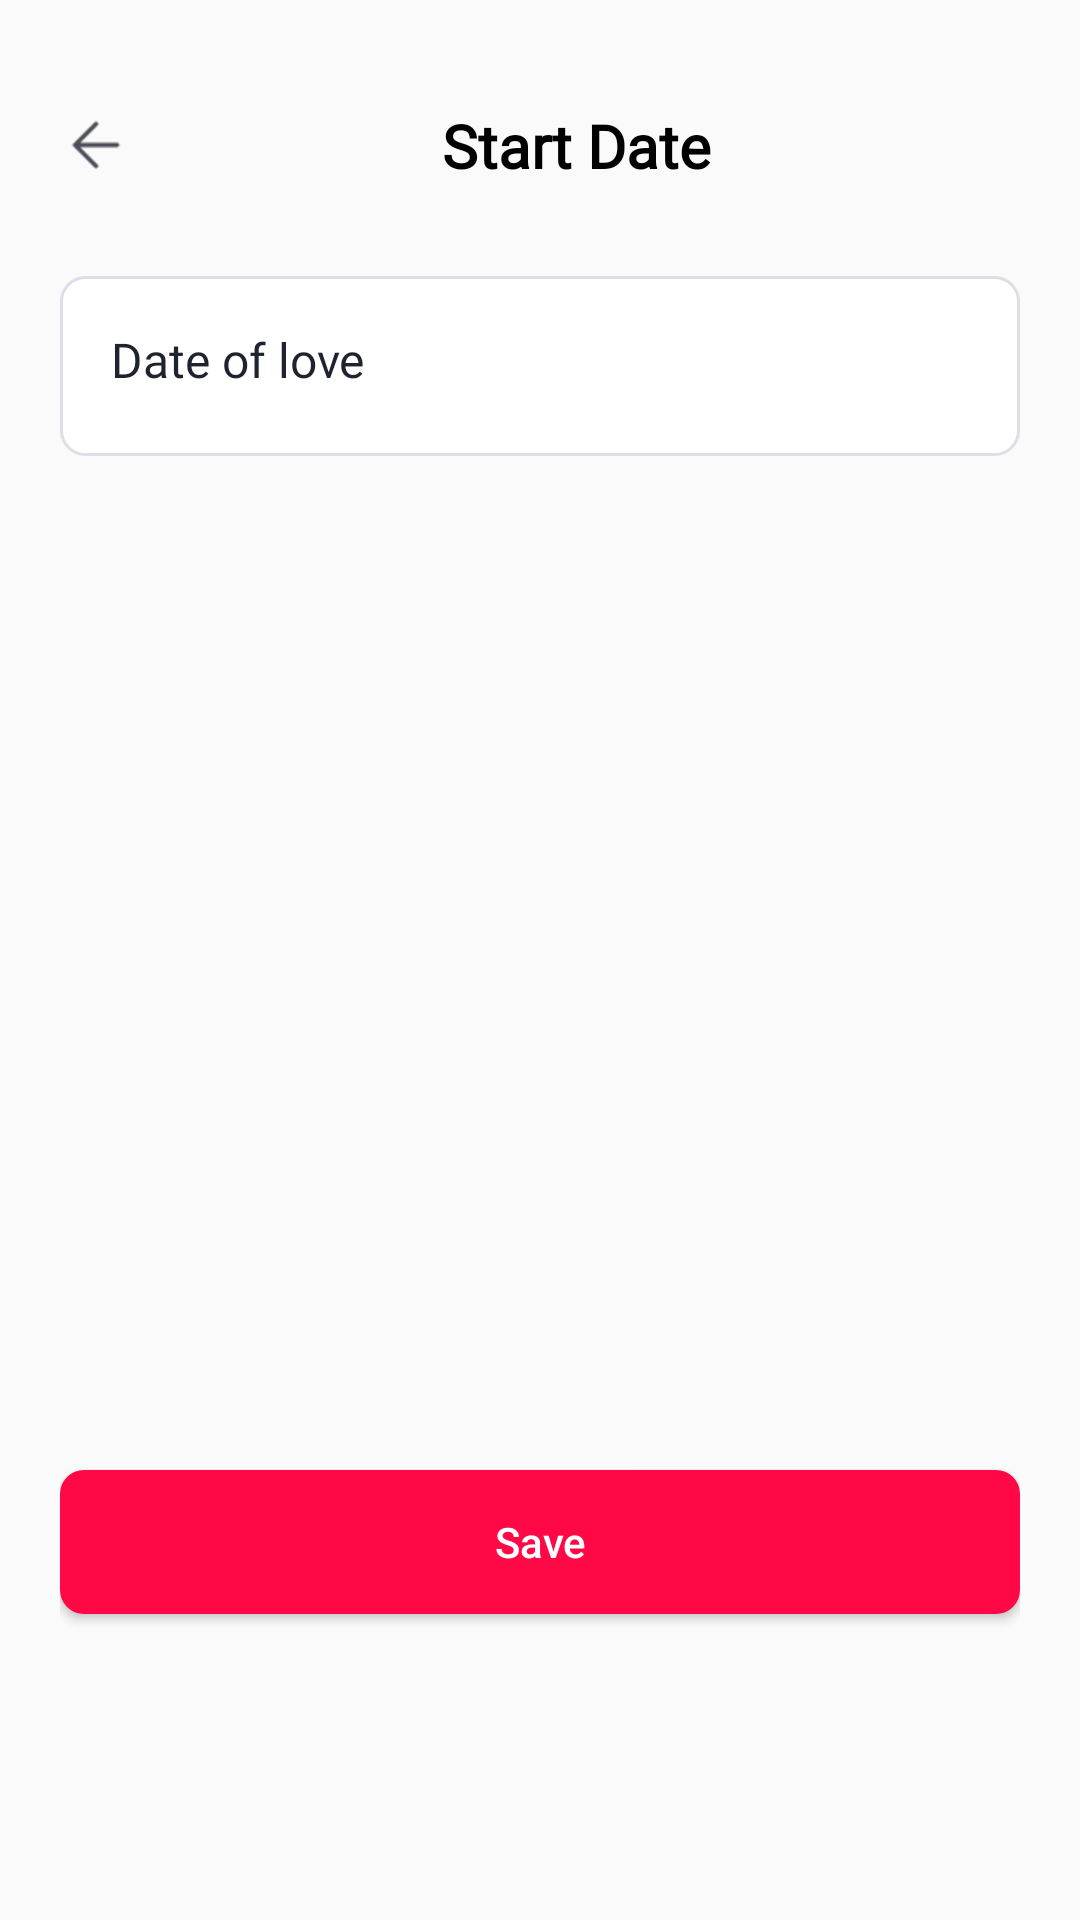

Screen size 1080w x 1920h. Icon name, then its center in pixels as (x=x, y=y):
back: (x=96, y=145)
